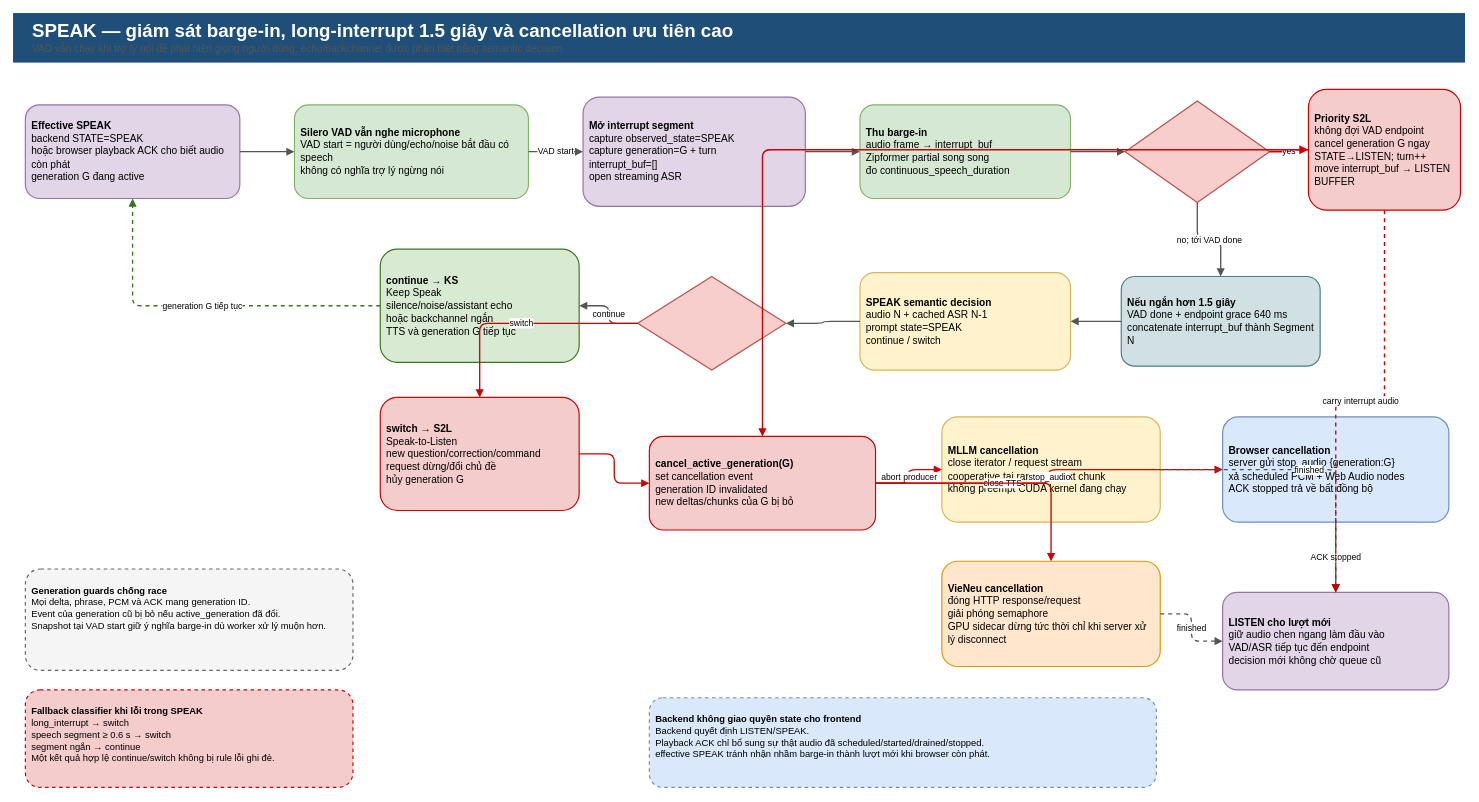
This 1479x802 diagram has some shape labels left out. Here are the shapes that lost their labels. From the top down, the centre of each, then its label:
(1197,151): Speech liên tục ≥ 1.5 giây?
(711,322): continue hay switch?
